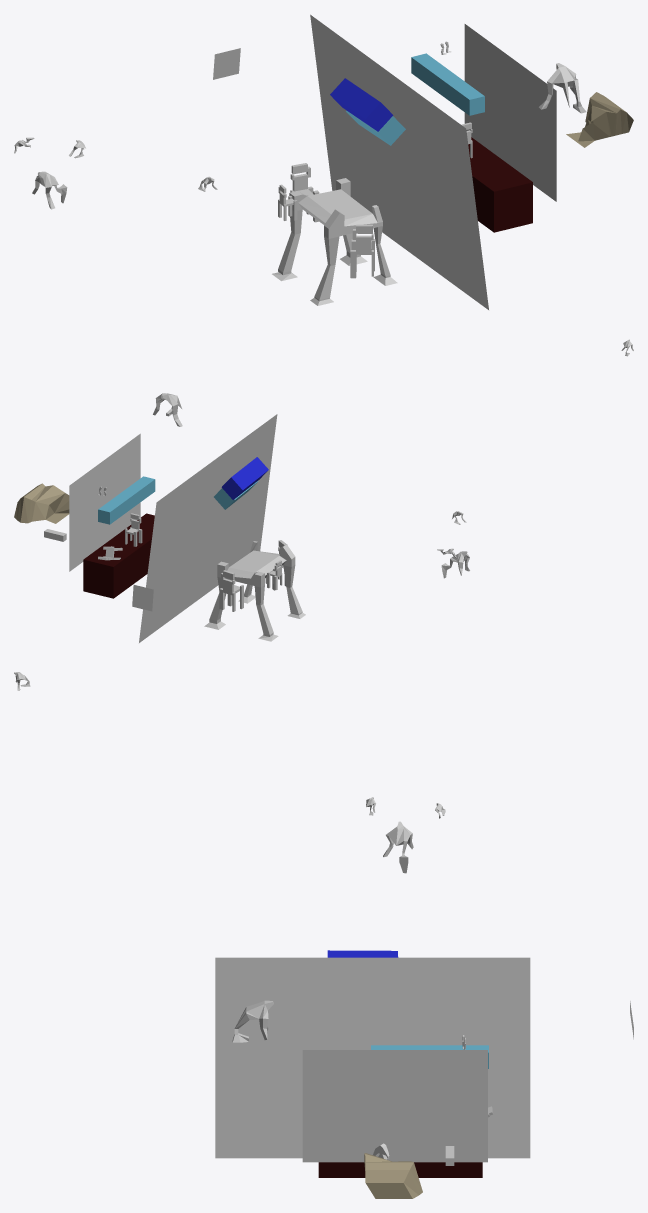
Rendered from ggj2.obj.
The picture shows the model from 3 angles, top to bottom: view 1: azimuth 30°, elevation 25°; view 2: azimuth 150°, elevation 25°; view 3: azimuth 270°, elevation 25°; orthographic projection. The views are drawn at different scales.
Visible parts, largest first — view 1: Cube.013_Cube.016, Cube.005, Cube.016_Cube.019, Cube.004, Cube.009, Cube, Cube.019_Cube.022, Cube.012_Cube.015, Cube.015_Cube.018, Plane, Cube.020_Cube.023, Cube.010 (+2 smaller); view 2: Cube.013_Cube.016, Cube.005, Cube.004, Cube.016_Cube.019, Cube, Cube.009, Cube.019_Cube.022, Cube.010, Plane, Cube.012_Cube.015; view 3: Cube.013_Cube.016, Cube.005, Cube, Cube.004, Cube.012_Cube.015.
Boxes of the visible parts, <box> form: Cube.013_Cube.016: <box>310,14,488,309</box>; Cube.005: <box>464,24,556,201</box>; Cube.016_Cube.019: <box>272,178,397,305</box>; Cube.004: <box>468,137,532,232</box>; Cube.009: <box>411,53,484,115</box>; Cube: <box>566,92,633,147</box>; Cube.019_Cube.022: <box>330,78,393,131</box>; Cube.012_Cube.015: <box>539,63,586,113</box>; Cube.015_Cube.018: <box>350,224,374,278</box>; Plane: <box>213,48,240,79</box>; Cube.020_Cube.023: <box>346,110,405,145</box>; Cube.010: <box>290,163,319,222</box>; Cube.013_Cube.016: <box>139,414,277,642</box>; Cube.005: <box>69,433,140,571</box>; Cube.004: <box>83,513,154,598</box>; Cube.016_Cube.019: <box>204,541,305,641</box>; Cube: <box>14,483,69,523</box>; Cube.009: <box>98,476,155,524</box>; Cube.019_Cube.022: <box>221,457,268,499</box>; Cube.010: <box>219,570,243,611</box>; Plane: <box>132,585,153,611</box>; Cube.012_Cube.015: <box>153,393,182,426</box>; Cube.013_Cube.016: <box>215,957,530,1158</box>; Cube.005: <box>302,1050,487,1162</box>; Cube: <box>364,1153,422,1198</box>; Cube.004: <box>318,1162,482,1177</box>; Cube.012_Cube.015: <box>232,1000,273,1042</box>.
Size of the model in its own units: 79.12 by 38.62 by 69.82.
